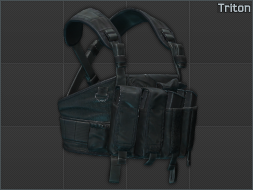Dynaforce Triton M43-A chest harness: (0, 0, 253, 190)
